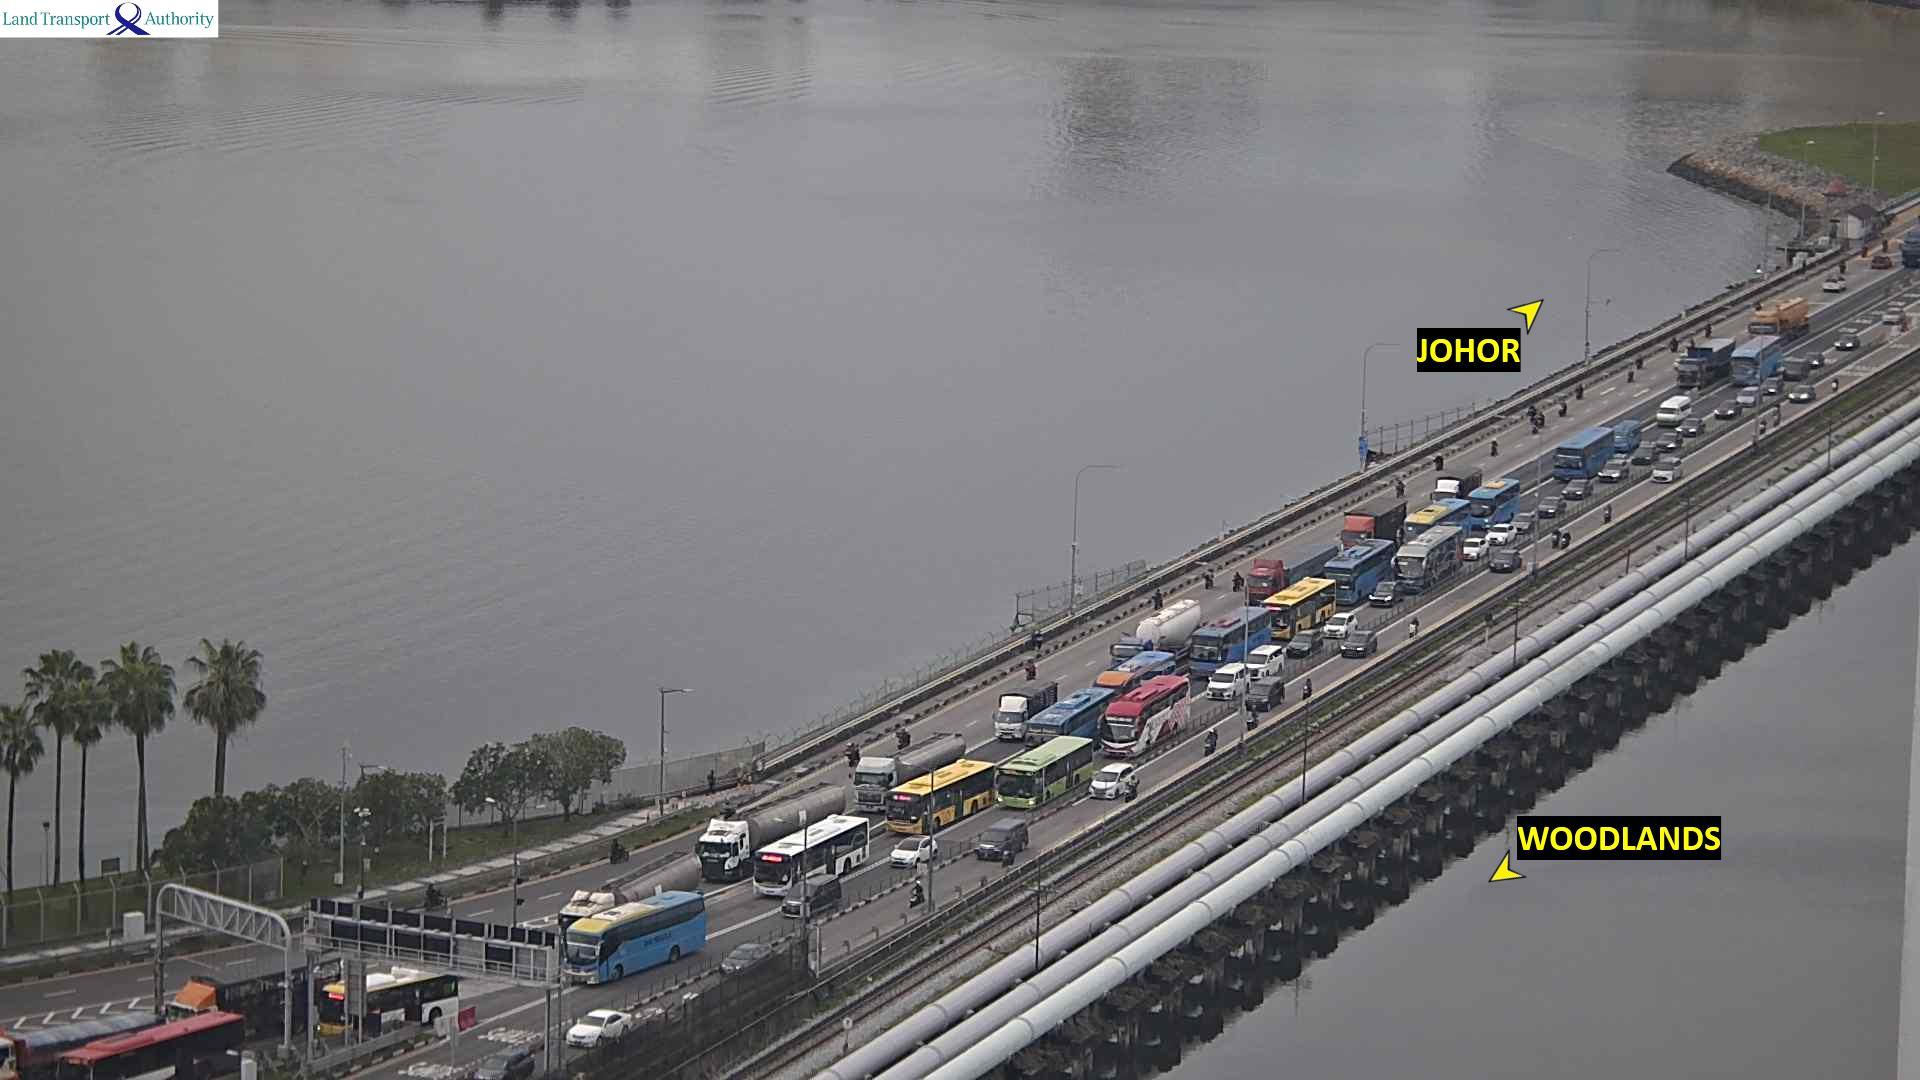vehicle-causeway-johor: (609, 837, 629, 865), (893, 724, 910, 746), (1147, 589, 1164, 611), (1395, 476, 1406, 508), (844, 744, 858, 766), (1824, 277, 1842, 294), (1025, 657, 1039, 676), (1230, 571, 1242, 593), (1553, 396, 1568, 413), (1873, 257, 1890, 272), (1698, 322, 1712, 340), (1575, 380, 1586, 398), (1200, 574, 1215, 588), (1436, 454, 1447, 473), (1489, 434, 1498, 454), (1633, 349, 1642, 367), (1880, 237, 1890, 255), (1671, 336, 1679, 353), (1837, 258, 1846, 273), (1530, 404, 1536, 418), (1861, 243, 1865, 256)
vehicle-causeway-singapore: (3, 1010, 243, 1080), (560, 894, 704, 988), (702, 787, 840, 874), (297, 965, 460, 1029), (186, 956, 340, 1021), (856, 732, 964, 811), (1098, 676, 1188, 753), (887, 765, 993, 829), (997, 738, 1092, 806), (758, 823, 866, 881), (1245, 543, 1336, 607), (1189, 609, 1269, 678), (1399, 529, 1462, 593), (1325, 541, 1391, 601), (1266, 580, 1335, 636), (996, 680, 1056, 738), (1341, 501, 1406, 550), (1555, 427, 1611, 476), (1679, 339, 1733, 388), (567, 1009, 629, 1048), (1753, 301, 1812, 339), (1731, 336, 1780, 381), (779, 881, 836, 919), (973, 823, 1031, 860), (1472, 480, 1522, 522), (473, 1047, 534, 1080), (1433, 469, 1482, 505), (720, 942, 767, 976), (1085, 769, 1131, 799), (894, 836, 935, 866), (1341, 633, 1378, 658), (1610, 423, 1640, 452), (1485, 547, 1520, 570), (1283, 637, 1321, 657), (1664, 394, 1689, 421), (1539, 495, 1564, 517), (1563, 484, 1596, 500), (1783, 361, 1811, 380), (1652, 460, 1681, 477), (1487, 526, 1514, 545), (1462, 537, 1481, 560), (1833, 330, 1858, 347), (1605, 460, 1626, 480), (1792, 382, 1813, 401), (1683, 419, 1704, 436), (1634, 446, 1652, 464), (1514, 512, 1531, 531), (1718, 397, 1735, 417), (1738, 386, 1758, 404), (1763, 378, 1783, 393), (909, 882, 922, 903), (1662, 433, 1679, 448), (1884, 307, 1902, 323), (1600, 504, 1611, 524), (1805, 348, 1821, 363), (1559, 530, 1569, 549), (1553, 529, 1559, 545)
